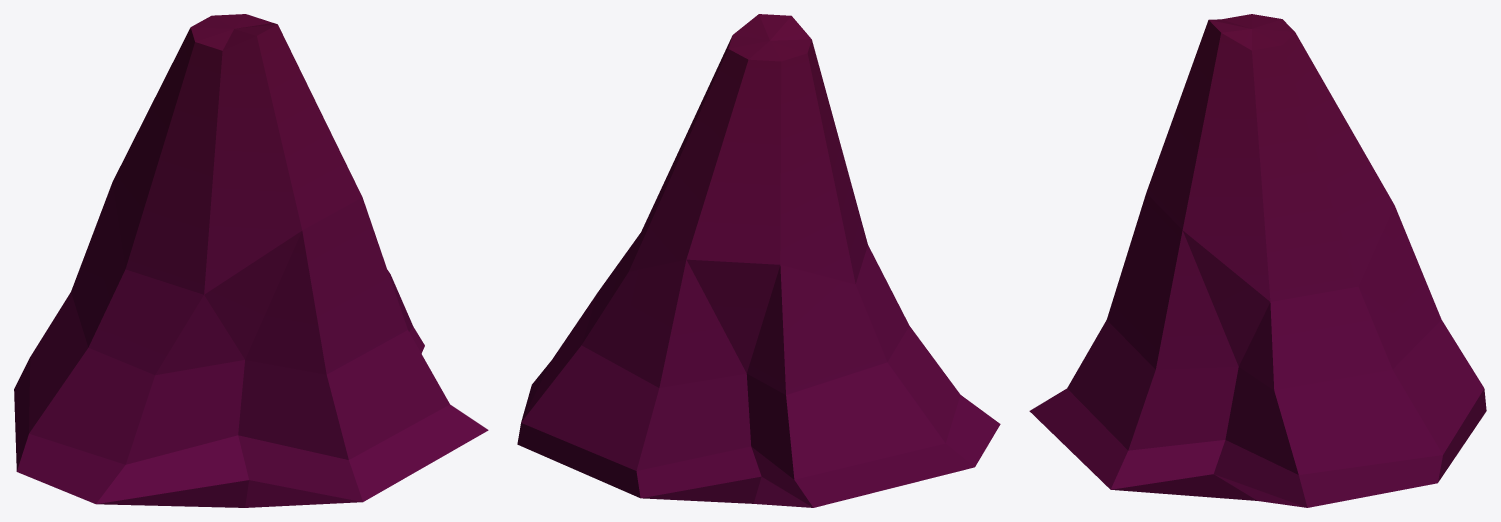
File: synty-tree-pine-base-01.gltf
3 views of the same model, side by side, from view 1: azimuth 30°, elevation 25°; view 2: azimuth 150°, elevation 25°; view 3: azimuth 270°, elevation 25° (orthographic). The views are drawn at different scales.
Parts seen in each view (by area): view 1: SM_Tree_Pine_Base_01; view 2: SM_Tree_Pine_Base_01; view 3: SM_Tree_Pine_Base_01.
Boxes of the visible parts, <box> form: SM_Tree_Pine_Base_01: <box>14,14,488,507</box>; SM_Tree_Pine_Base_01: <box>517,14,1000,507</box>; SM_Tree_Pine_Base_01: <box>1029,14,1486,507</box>.
Size of the model in its own units: 1.23 by 1.33 by 1.16.
1 material, 1 textured.
